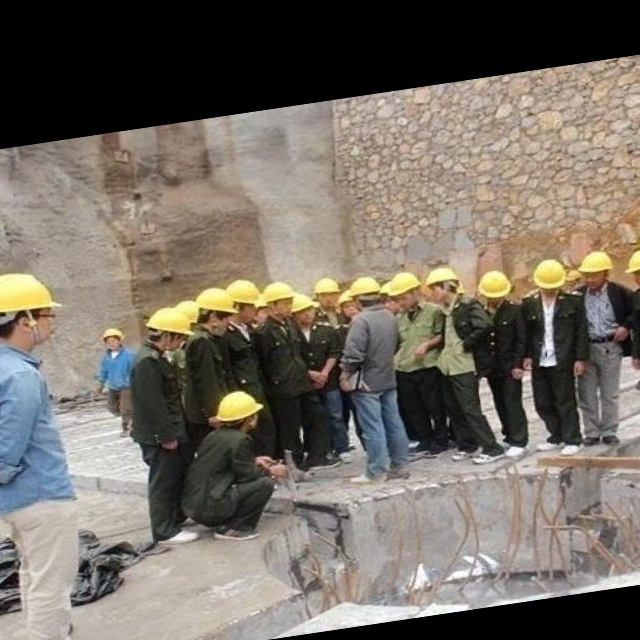Con_Casco: (0, 267, 68, 354)
Sin_Chaleco: (0, 336, 80, 518)
